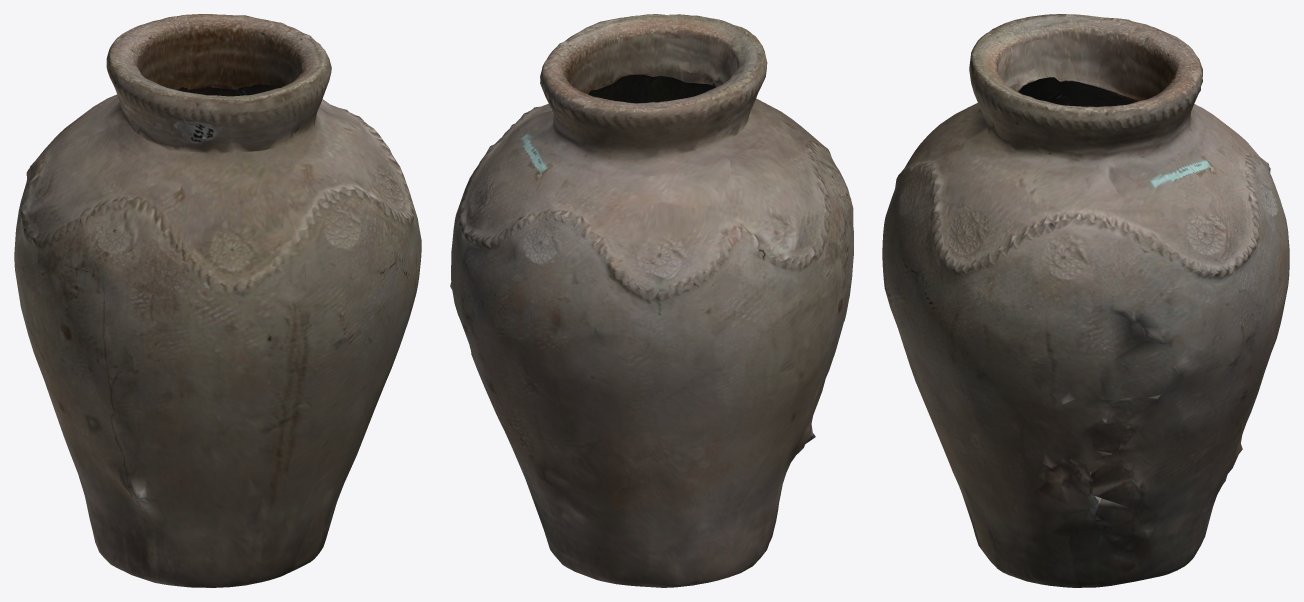
File: hum.gltf
3 views of the same model, side by side, from view 1: azimuth 30°, elevation 25°; view 2: azimuth 150°, elevation 25°; view 3: azimuth 270°, elevation 25° (orthographic).
Parts seen in each view (by area): view 1: HumHigh; view 2: HumHigh; view 3: HumHigh.
Part boxes in pixels (<box>): HumHigh: <box>14,14,421,587</box>; HumHigh: <box>450,14,853,587</box>; HumHigh: <box>882,14,1289,587</box>.
Size of the model in its own units: 8.94 by 11.95 by 8.99.
Materials: 1 (1 with a texture image).
